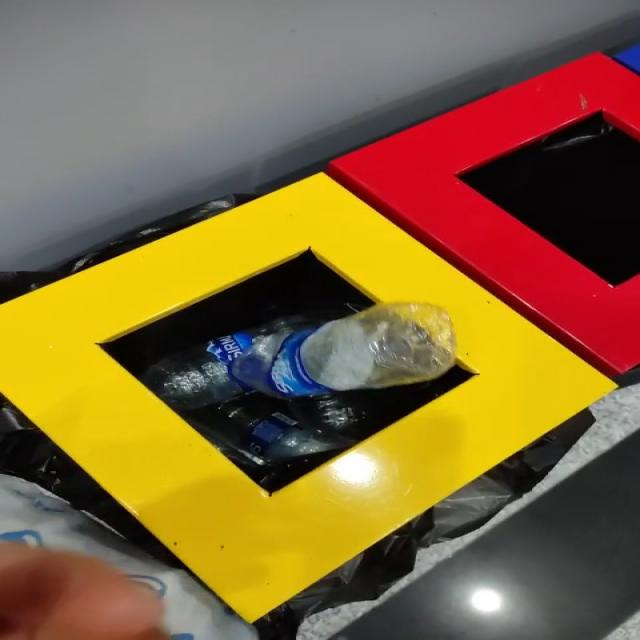plastic: (231, 303, 456, 398)
